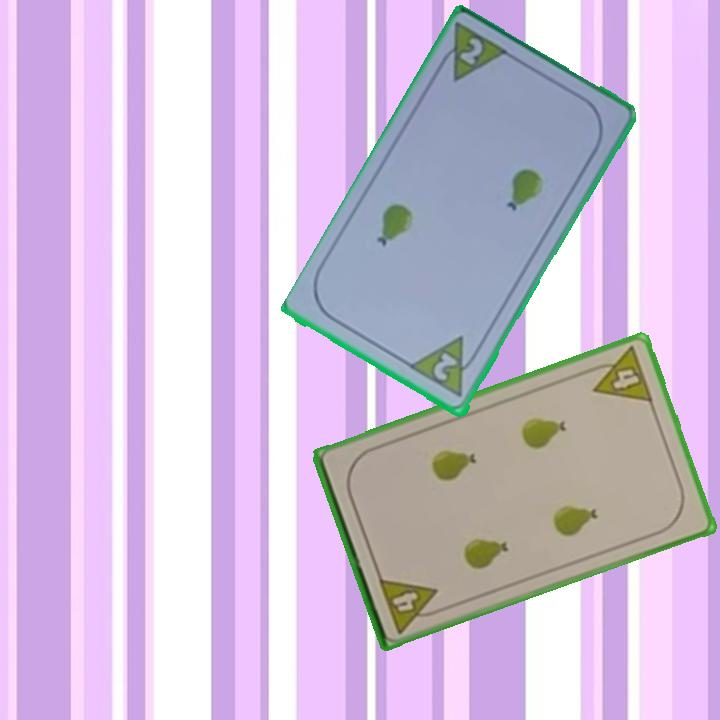2p: (432, 19, 513, 86), (429, 349, 461, 385)
4p: (583, 342, 656, 406), (375, 573, 446, 636)
